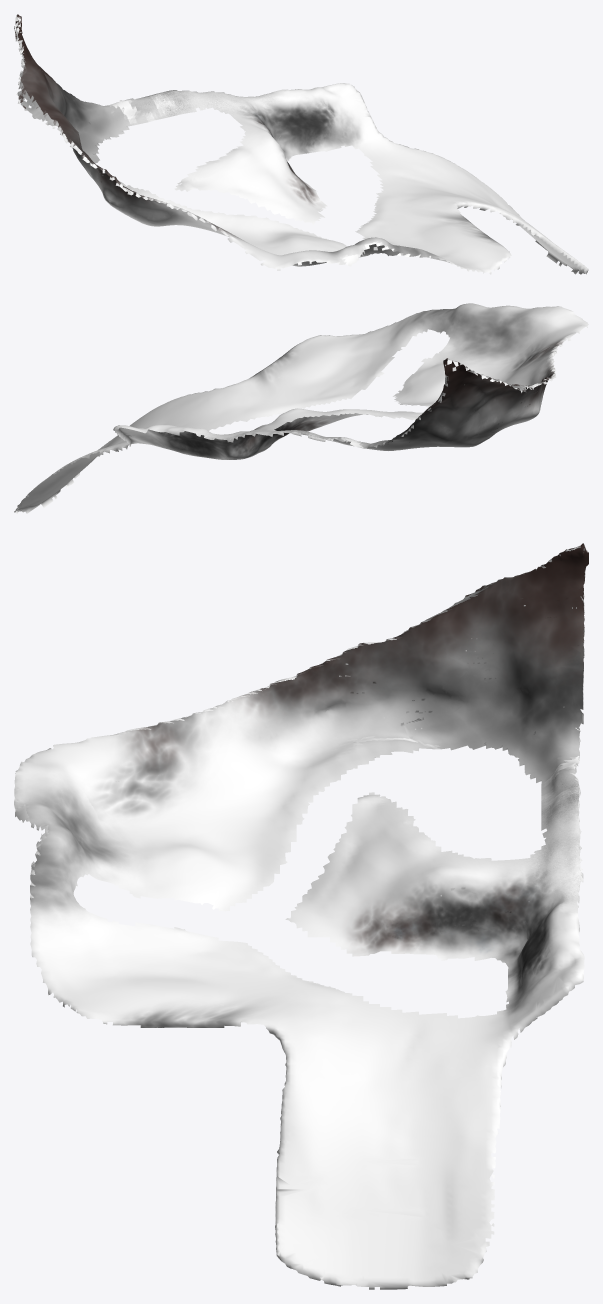
File: map_unwrapped.fbx
3 views of the same model, one above another, from view 1: azimuth 30°, elevation 25°; view 2: azimuth 150°, elevation 25°; view 3: azimuth 270°, elevation 25° (orthographic). The views are drawn at different scales.
Parts seen in each view (by area): view 1: map_remeshed; view 2: map_remeshed; view 3: map_remeshed.
Boxes of the visible parts, left/top/right/bottom form: map_remeshed: left=14, top=14, right=588, bottom=274; map_remeshed: left=14, top=303, right=588, bottom=514; map_remeshed: left=14, top=543, right=588, bottom=1289.
Size of the model in its own units: 29349 by 17052 by 20665.
Materials: 1 (1 with a texture image).
